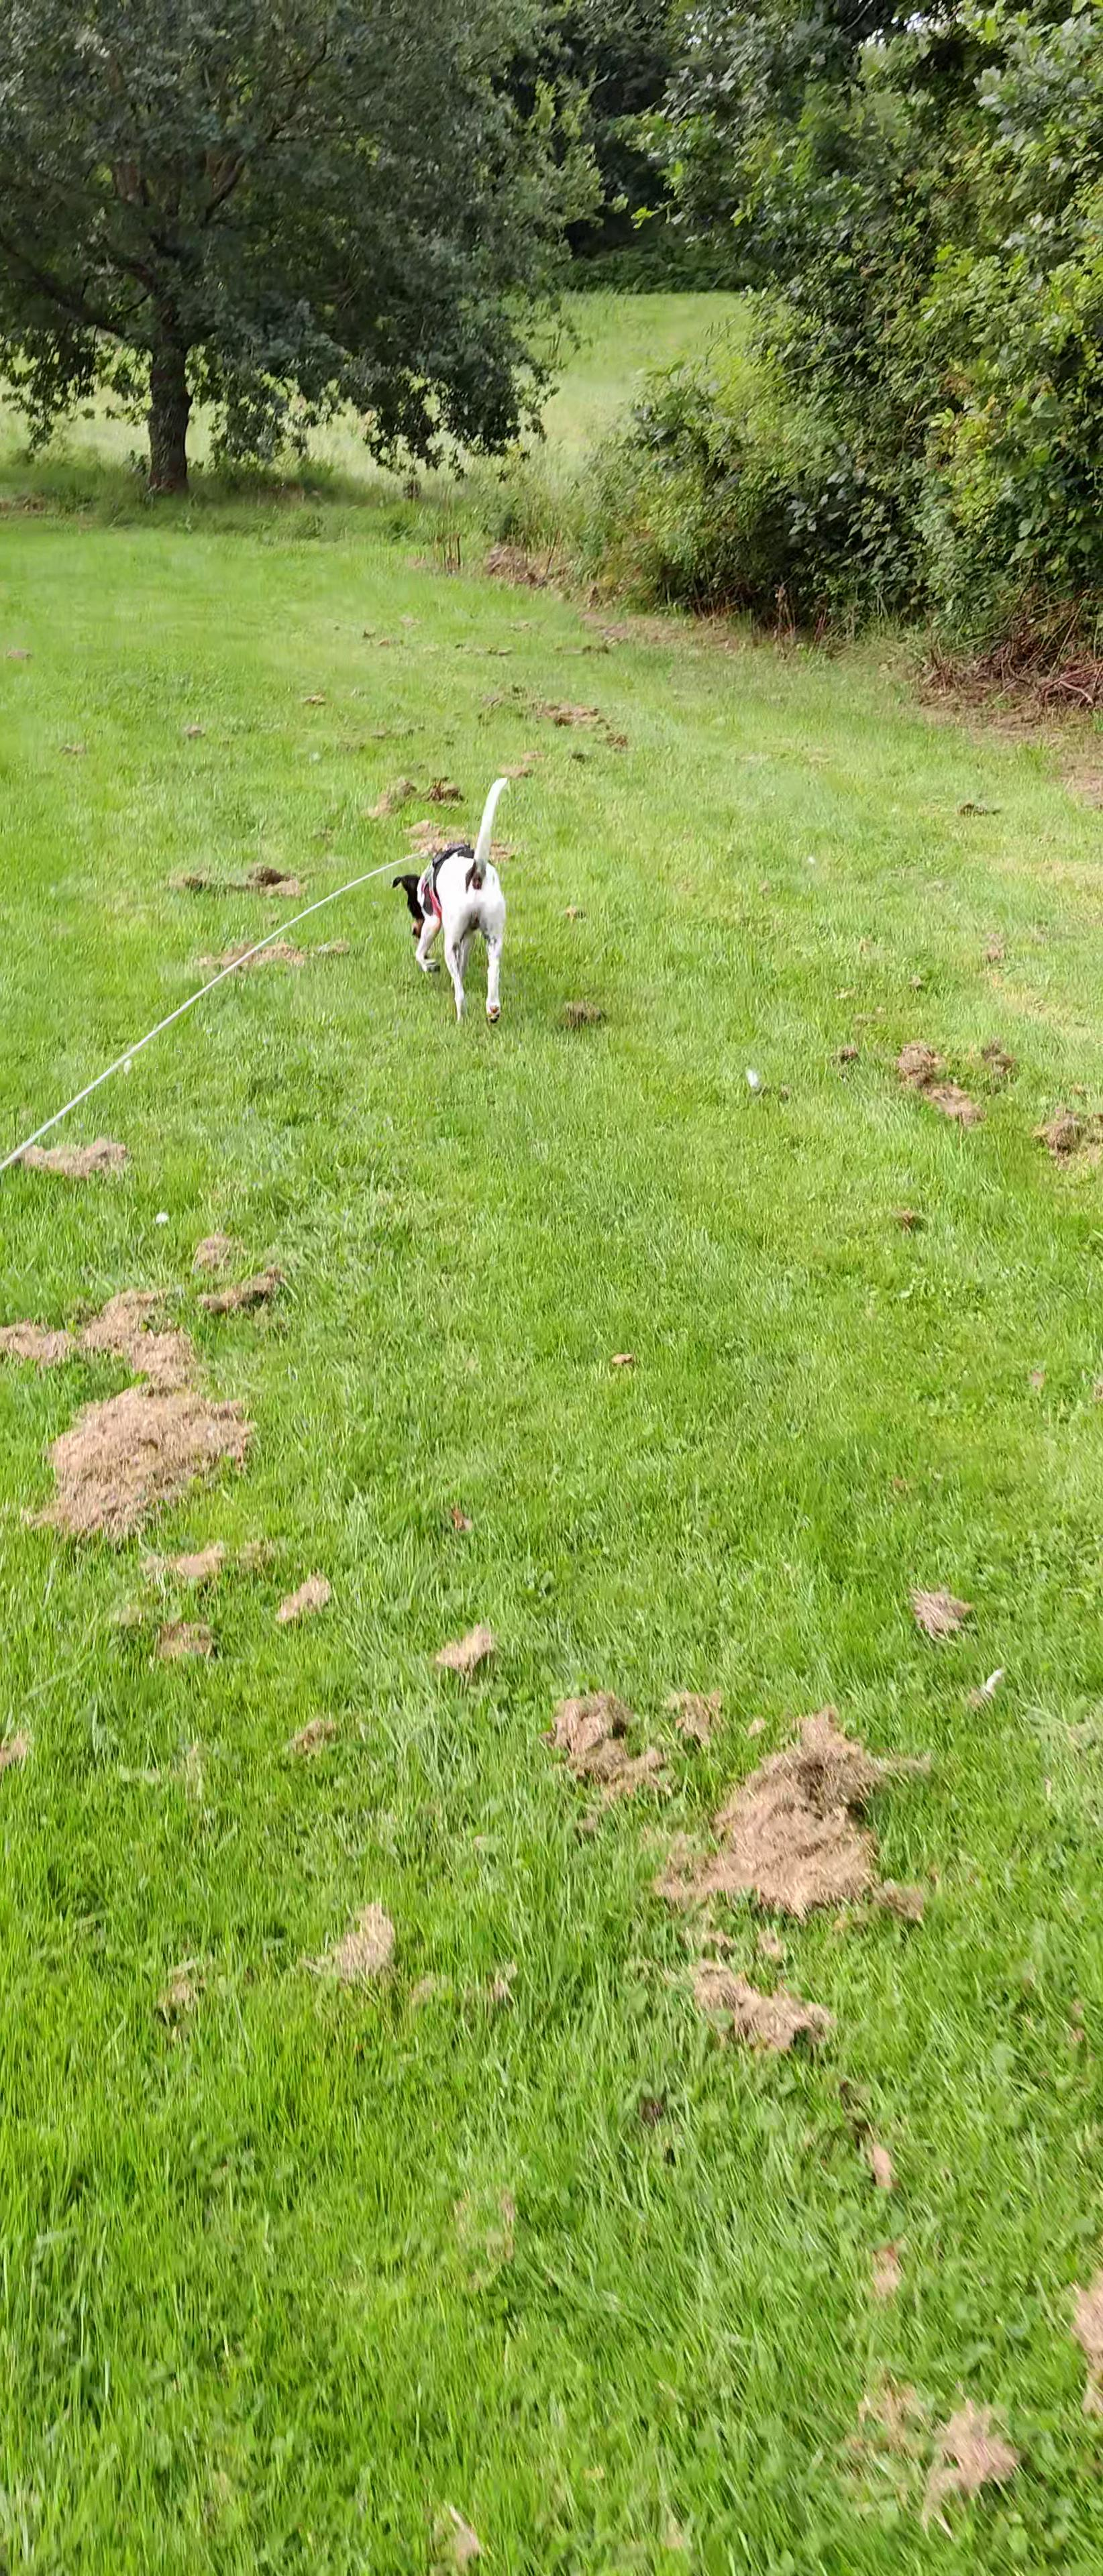Dog: (370, 747, 518, 1043)
